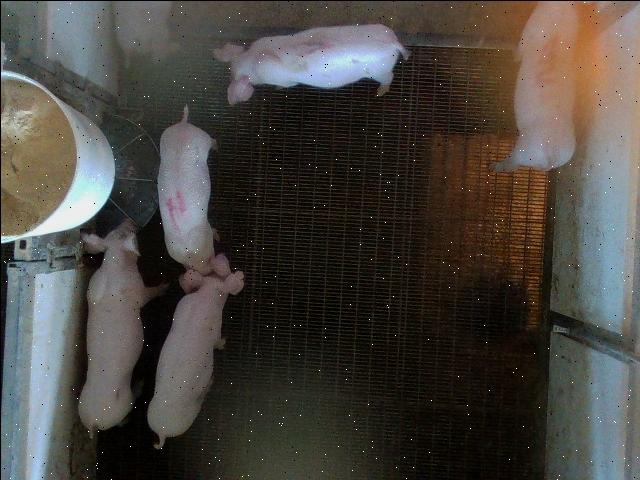pig-1: (212, 23, 409, 104)
pig-3: (491, 1, 578, 170)
pig-4: (156, 106, 230, 292)
